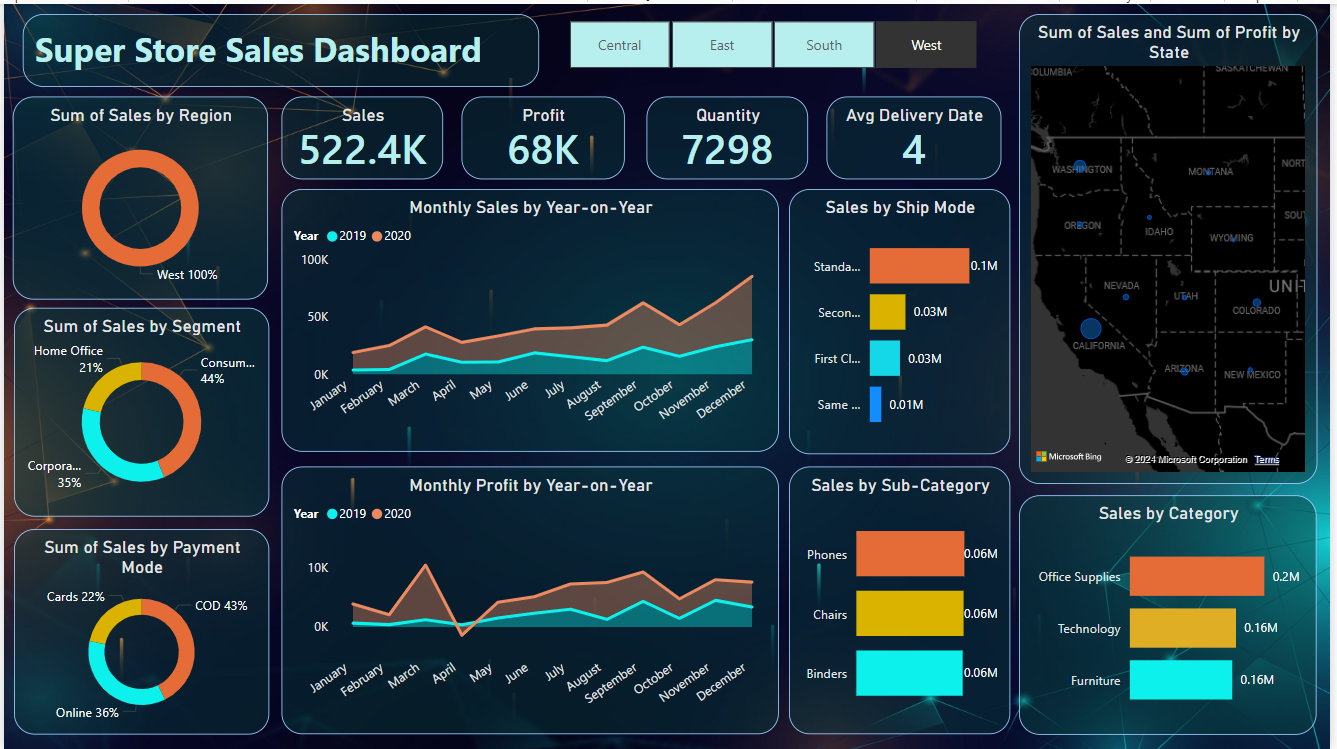

The dashboard page shown, as its layout file describes it:
{"tool":"powerbi","page":{"name":"Page 1","canvas":[1280,720],"ordinal":0},"visuals":[{"type":"clusteredBarChart","title":"Sales by Category","fields":{"Y":["Sum(SuperStore_Sales_Dataset.Sales)"],"Category":["SuperStore_Sales_Dataset.Category"]},"box":[980,473.8,287.5,231.2],"z":0},{"type":"clusteredBarChart","title":"Sales by Sub-Category","fields":{"Y":["Sum(SuperStore_Sales_Dataset.Sales)"],"Category":["SuperStore_Sales_Dataset.Sub-Category"]},"box":[757.5,446.2,213.8,258.8],"z":1000},{"type":"clusteredBarChart","title":"Sales by Ship Mode","fields":{"Y":["Sum(SuperStore_Sales_Dataset.Sales)"],"Category":["SuperStore_Sales_Dataset.Ship Mode"]},"box":[757.5,178.8,213.8,256.2],"z":2000},{"type":"stackedAreaChart","title":"Monthly Sales by Year-on-Year","fields":{"Category":["SuperStore_Sales_Dataset.Order Date.Variation.Date Hierarchy.Month"],"Y":["Sum(SuperStore_Sales_Dataset.Sales)"],"Series":["SuperStore_Sales_Dataset.Order Date.Variation.Date Hierarchy.Year"]},"box":[267.5,178.8,480,253.8],"z":3000},{"type":"stackedAreaChart","title":"Monthly Profit by Year-on-Year","fields":{"Category":["SuperStore_Sales_Dataset.Order Date.Variation.Date Hierarchy.Month","SuperStore_Sales_Dataset.Order Date.Variation.Date Hierarchy.Day"],"Series":["SuperStore_Sales_Dataset.Order Date.Variation.Date Hierarchy.Year"],"Y":["Sum(SuperStore_Sales_Dataset.Profit)"]},"box":[267.5,446.2,480,258.8],"z":4000},{"type":"map","fields":{"Category":["SuperStore_Sales_Dataset.State"],"Size":["Sum(SuperStore_Sales_Dataset.Sales)"]},"box":[979.6,9.7,288.3,453.6],"z":5000},{"type":"donutChart","fields":{"Category":["SuperStore_Sales_Dataset.Segment"],"Y":["Sum(SuperStore_Sales_Dataset.Sales)"]},"box":[10,293.8,246.2,201.2],"z":6000},{"type":"donutChart","fields":{"Y":["Sum(SuperStore_Sales_Dataset.Sales)"],"Category":["SuperStore_Sales_Dataset.Payment Mode"]},"box":[10,506.2,246.2,198.8],"z":7000},{"type":"slicer","fields":{"Values":["SuperStore_Sales_Dataset.Region"]},"box":[520,10,442.5,58.8],"z":8000},{"type":"textbox","box":[17.5,10,498.8,70],"z":9000},{"type":"card","title":"Sales","fields":{"Values":["Sum(SuperStore_Sales_Dataset.Sales)"]},"box":[267.5,88.8,156.2,80],"z":10000},{"type":"card","title":"Profit","fields":{"Values":["Sum(SuperStore_Sales_Dataset.Profit)"]},"box":[441.2,88.8,157.5,80],"z":11000},{"type":"card","title":"Quantity","fields":{"Values":["Sum(SuperStore_Sales_Dataset.Quantity)"]},"box":[620,88.8,156.2,80],"z":12000},{"type":"card","title":"Avg Delivery Date","fields":{"Values":["Avg(SuperStore_Sales_Dataset.AVGDeliverDate)"]},"box":[793.8,88.8,168.8,80],"z":13000},{"type":"donutChart","fields":{"Y":["Sum(SuperStore_Sales_Dataset.Sales)"],"Category":["SuperStore_Sales_Dataset.Region"]},"box":[8.8,88.8,246.2,196.2],"z":14000}]}

Visuals, with their boxes in screenshot pixels (x1, y1, x2, y2), scaled from the page's 1280x720 canvas onto the 1337x749 screenshot:
"Sales by Category" clusteredBarChart: 1024, 493, 1324, 733
"Sales by Sub-Category" clusteredBarChart: 791, 464, 1015, 733
"Sales by Ship Mode" clusteredBarChart: 791, 186, 1015, 453
"Monthly Sales by Year-on-Year" stackedAreaChart: 279, 186, 781, 450
"Monthly Profit by Year-on-Year" stackedAreaChart: 279, 464, 781, 733
map - SuperStore_Sales_Dataset.State x Sum(SuperStore_Sales_Dataset.Sales): 1023, 10, 1324, 482
donutChart - SuperStore_Sales_Dataset.Segment x Sum(SuperStore_Sales_Dataset.Sales): 10, 306, 268, 515
donutChart - Sum(SuperStore_Sales_Dataset.Sales) x SuperStore_Sales_Dataset.Payment Mode: 10, 527, 268, 733
slicer - SuperStore_Sales_Dataset.Region: 543, 10, 1005, 72
textbox: 18, 10, 539, 83
"Sales" card: 279, 92, 443, 176
"Profit" card: 461, 92, 625, 176
"Quantity" card: 648, 92, 811, 176
"Avg Delivery Date" card: 829, 92, 1005, 176
donutChart - Sum(SuperStore_Sales_Dataset.Sales) x SuperStore_Sales_Dataset.Region: 9, 92, 266, 296
